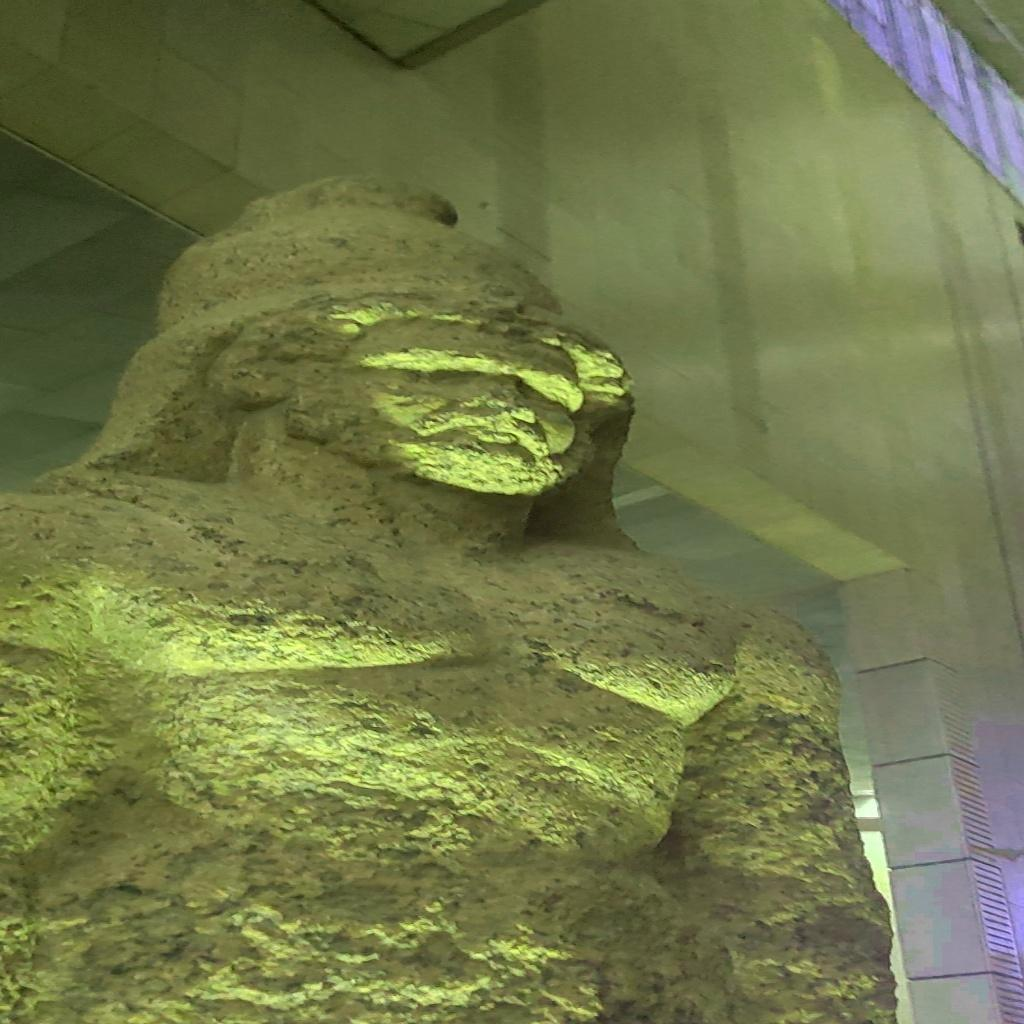Statue of Carcala: (6, 172, 901, 1020)
